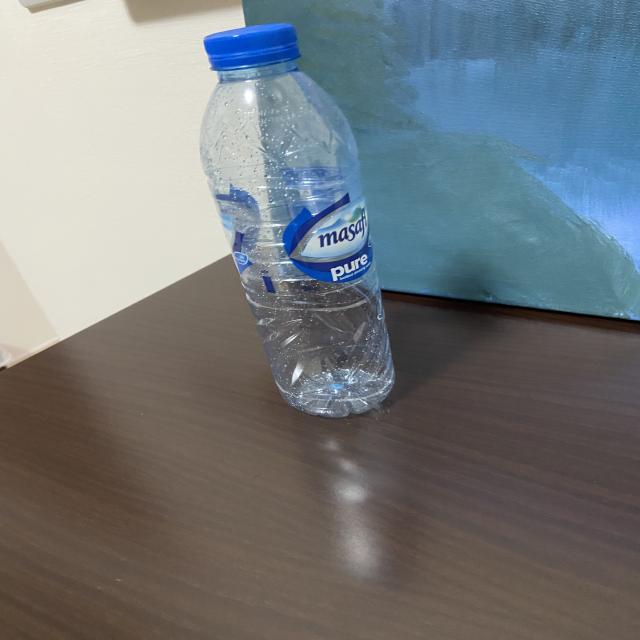bottle: (198, 16, 402, 420)
